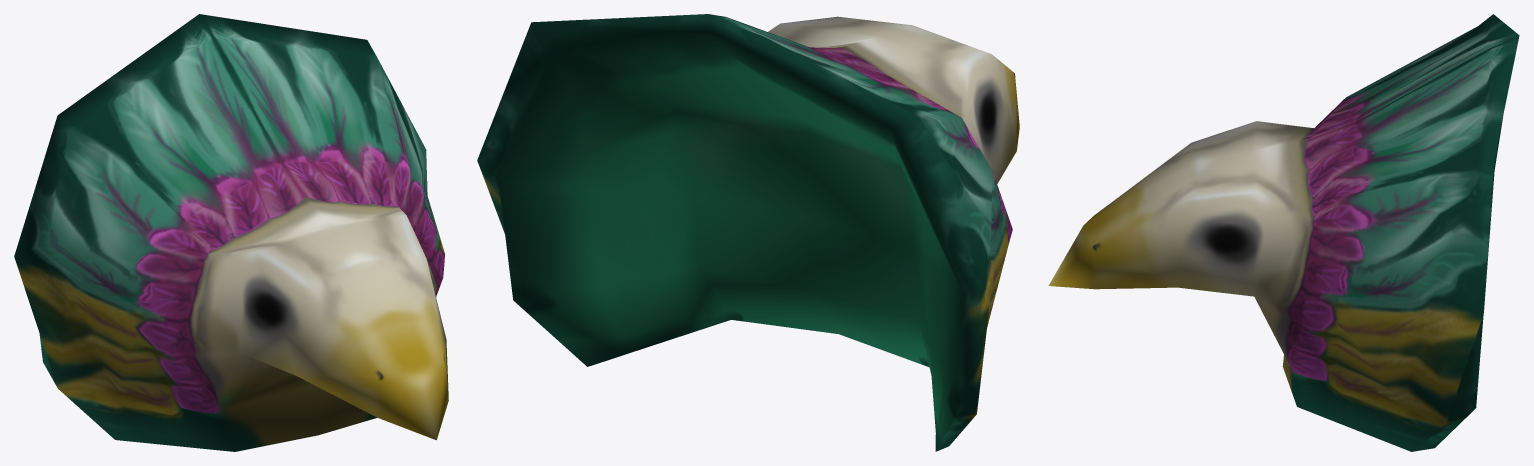
The model's file is E01_BirdHat_Skeleton.FBX.
The picture shows the model from 3 angles, left to right: view 1: azimuth 30°, elevation 25°; view 2: azimuth 150°, elevation 25°; view 3: azimuth 270°, elevation 25°; orthographic projection. The views are drawn at different scales.
Visible parts, largest first — view 1: E01_BirdHat_Skeleton; view 2: E01_BirdHat_Skeleton; view 3: E01_BirdHat_Skeleton.
Boxes of the visible parts, <box> form: E01_BirdHat_Skeleton: <box>14,14,448,451</box>; E01_BirdHat_Skeleton: <box>477,14,1019,451</box>; E01_BirdHat_Skeleton: <box>1048,14,1519,451</box>.
Size of the model in its own units: 2.02 by 1.67 by 2.04.
